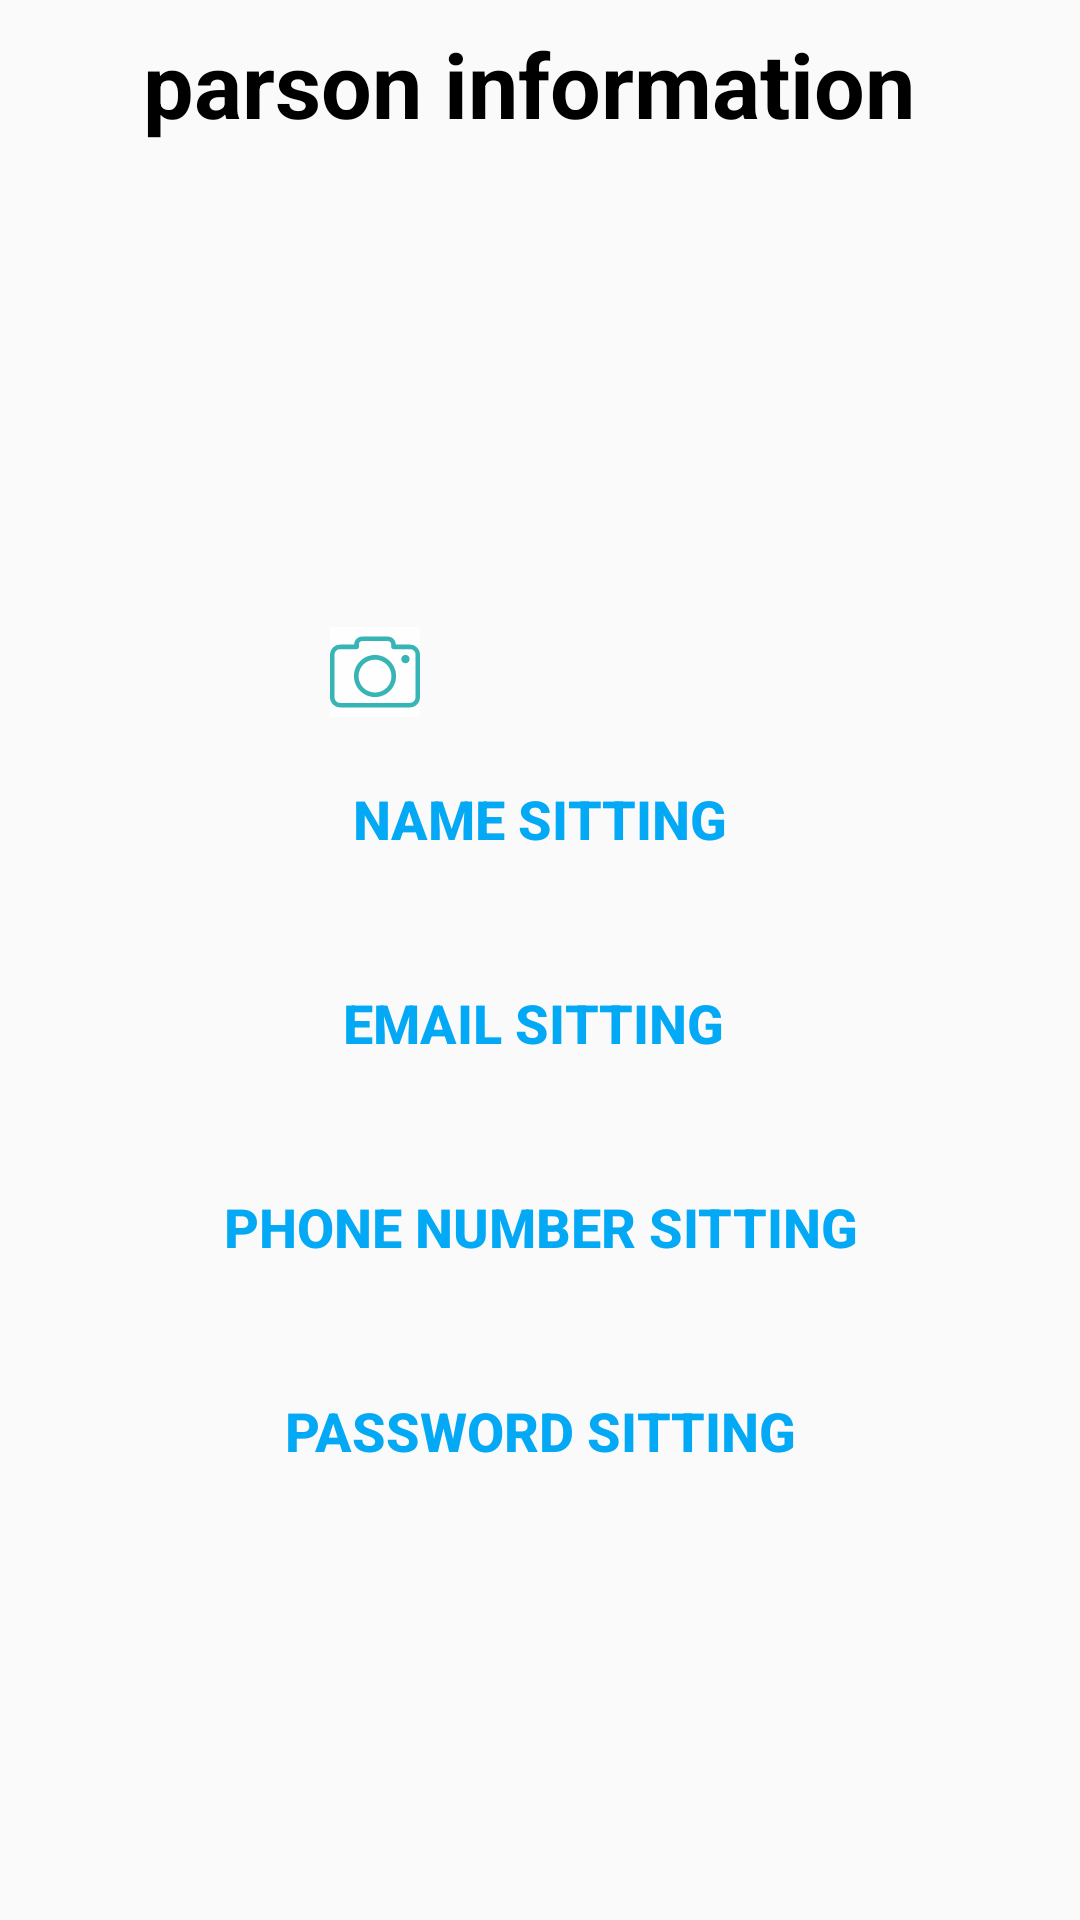

Icon click points for this 1080w x 1920h phone screenshot, format [x,y]:
camera: [375,672]
